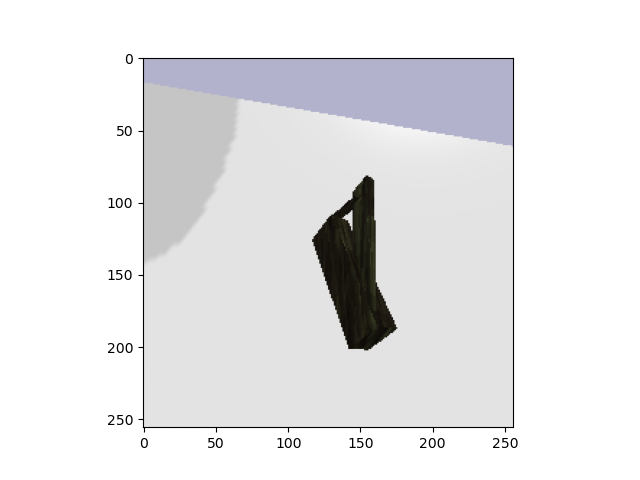v249b387_109: (299, 174, 415, 351)
